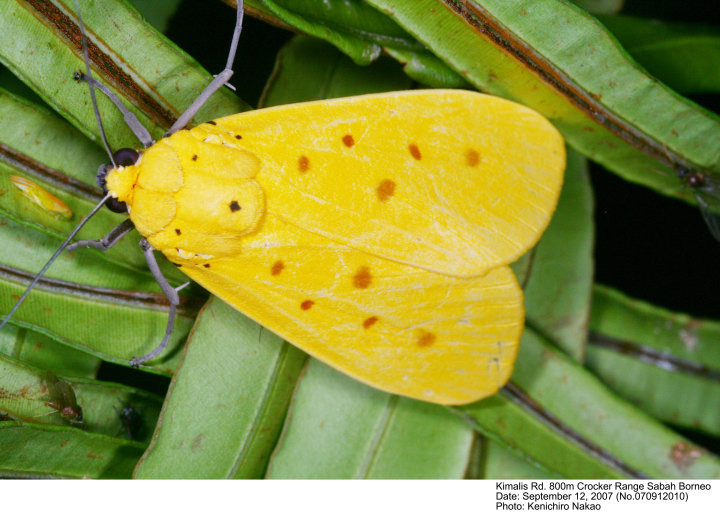Agape chloropyga: (14, 1, 574, 411)
moth: (9, 2, 569, 413)
